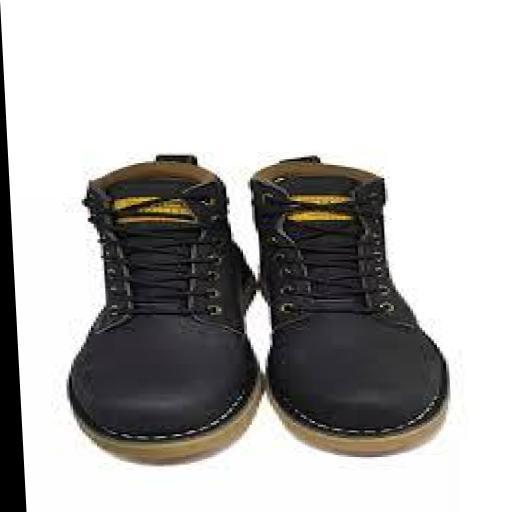safety_boots: (256, 142, 450, 474), (63, 167, 259, 463)
